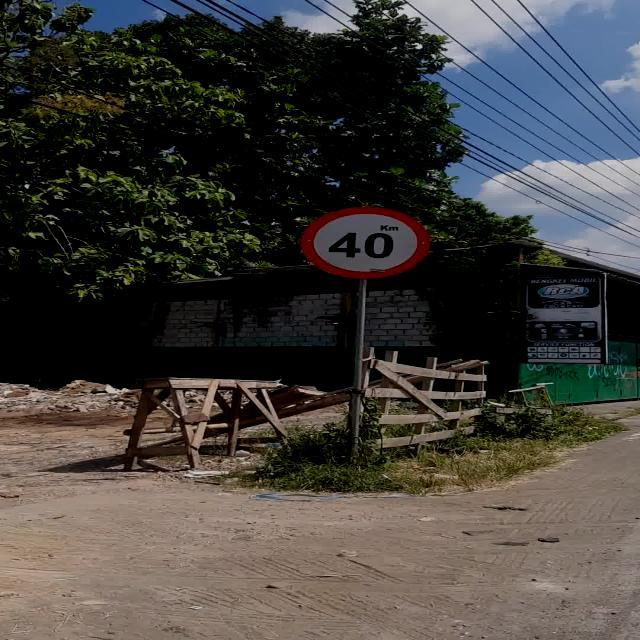Kecepatan Maks. 40 km: (300, 206, 430, 280)
